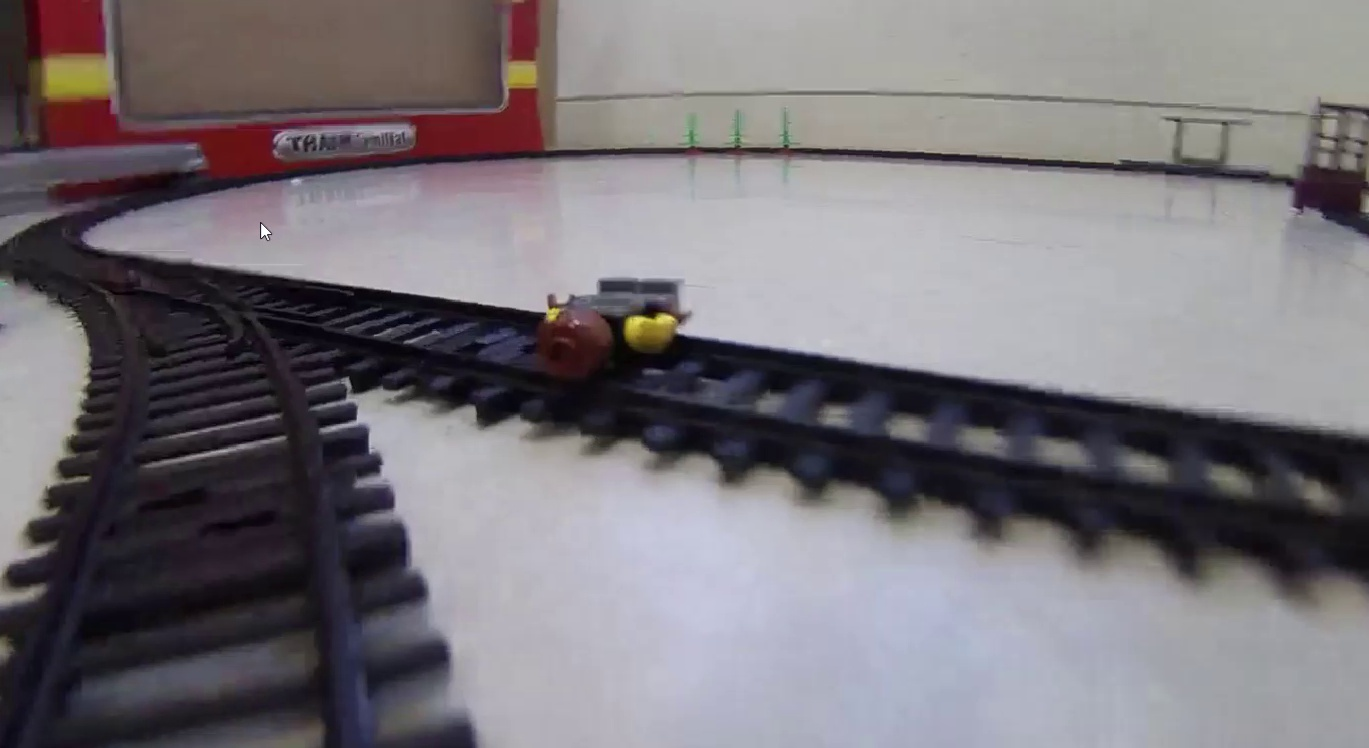people: (542, 274, 682, 384)
